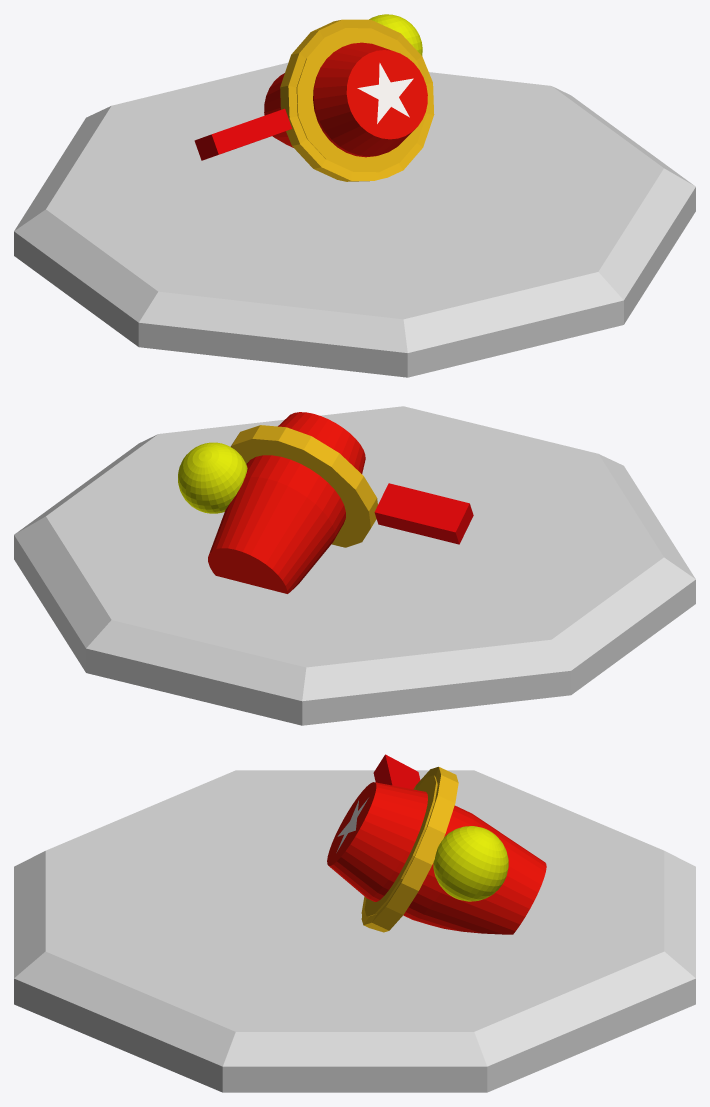
File: Money15.fbx
The picture shows the model from 3 angles, top to bottom: view 1: azimuth 30°, elevation 25°; view 2: azimuth 150°, elevation 25°; view 3: azimuth 270°, elevation 25°; orthographic projection. The views are drawn at different scales.
Parts seen in each view (by area): view 1: Cube, Text.001, Cube.001, Cube.002, Sphere; view 2: Cube, Text.001, Cube.001, Cube.002, Sphere; view 3: Cube, Text.001, Cube.001, Sphere, Cube.002.
Part boxes in pixels (x1=…): Cube: x1=14, y1=62, x2=695, y2=377; Text.001: x1=264, y1=42, x2=427, y2=157; Cube.001: x1=280, y1=19, x2=434, y2=181; Cube.002: x1=194, y1=108, x2=291, y2=160; Sphere: x1=369, y1=14, x2=422, y2=55; Cube: x1=14, y1=406, x2=695, y2=725; Text.001: x1=208, y1=412, x2=365, y2=593; Cube.001: x1=230, y1=425, x2=377, y2=547; Cube.002: x1=374, y1=483, x2=473, y2=544; Sphere: x1=178, y1=442, x2=247, y2=513; Cube: x1=14, y1=770, x2=695, y2=1092; Text.001: x1=327, y1=782, x2=546, y2=934; Cube.001: x1=361, y1=766, x2=458, y2=932; Sphere: x1=433, y1=826, x2=508, y2=901; Cube.002: x1=373, y1=754, x2=420, y2=789.
Size of the model in its own units: 90.03 by 27.38 by 90.03.
